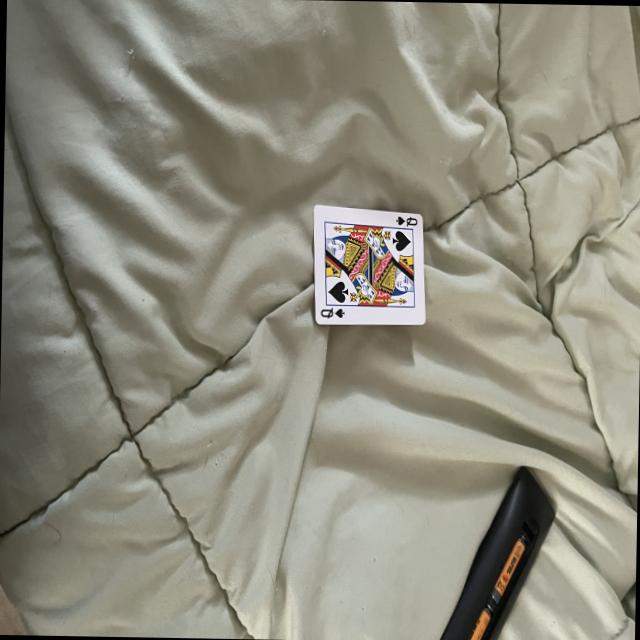Queen of spades: (312, 206, 425, 325)
